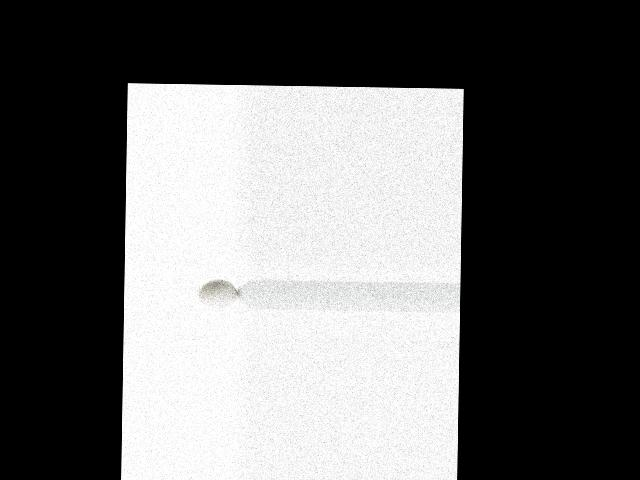egg: (197, 279, 238, 308)
